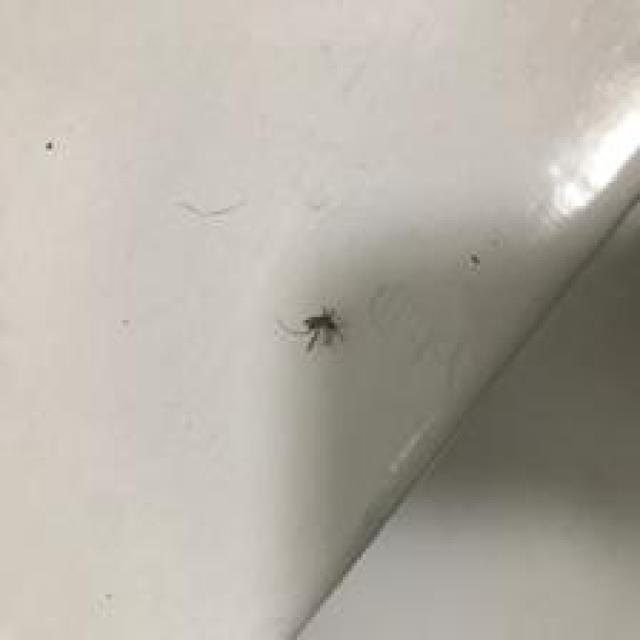Culex: (274, 304, 346, 353)
